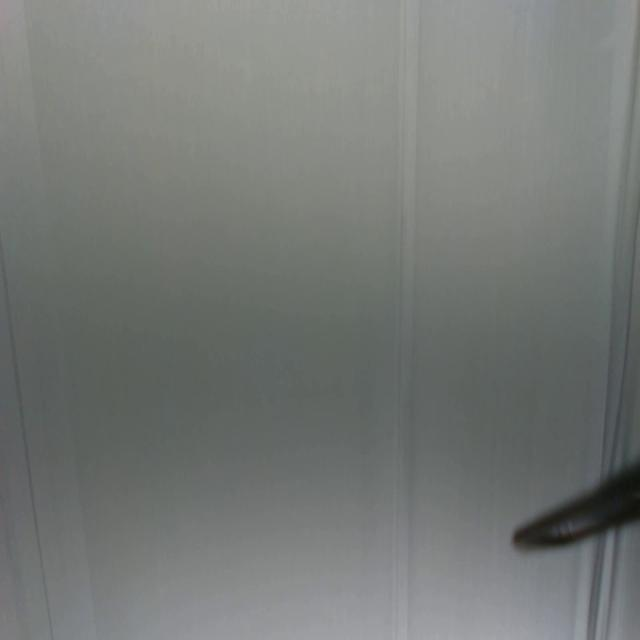crease: (0, 243, 55, 639), (390, 0, 421, 640), (596, 31, 640, 461), (584, 538, 606, 640)
